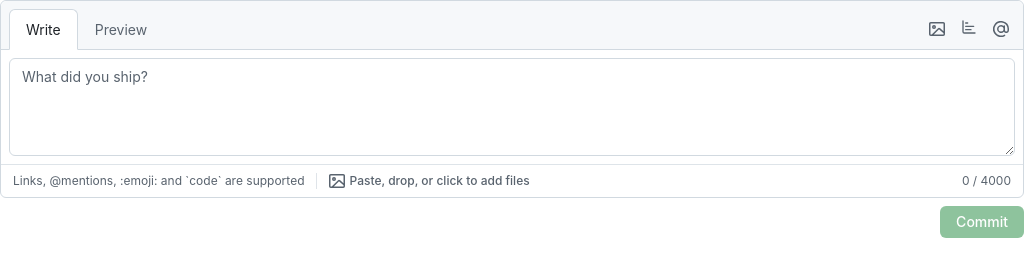
Scenario: InlineComposer, mention suggestions › closes on Escape, and only the suggestions
In the text box with placeholder "What did you ship?": (512, 107) [9,58,1015,156], type "Thanks @la"
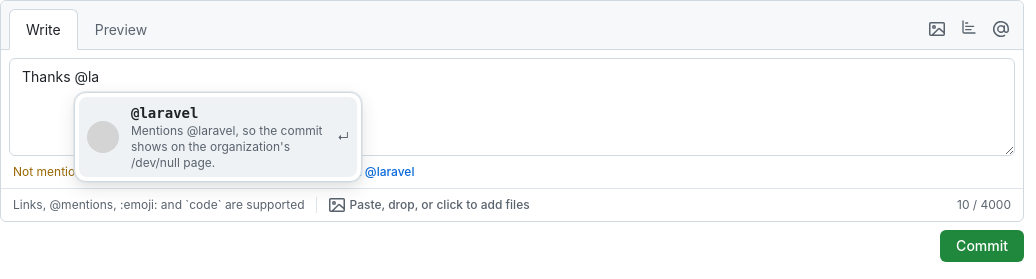
Press Escape in the text box named "Commit message", box [9,58,1015,156]
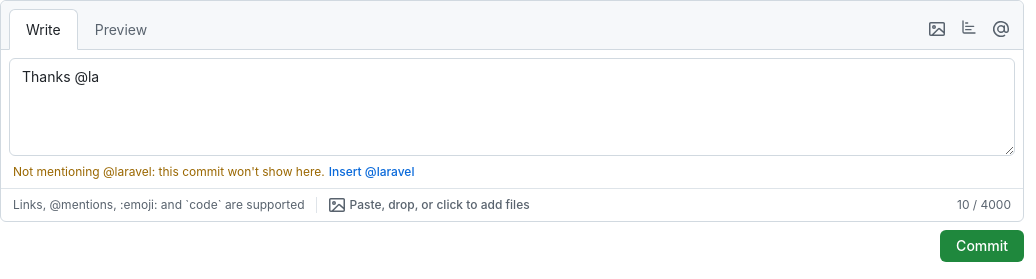
Check: the list is gone
